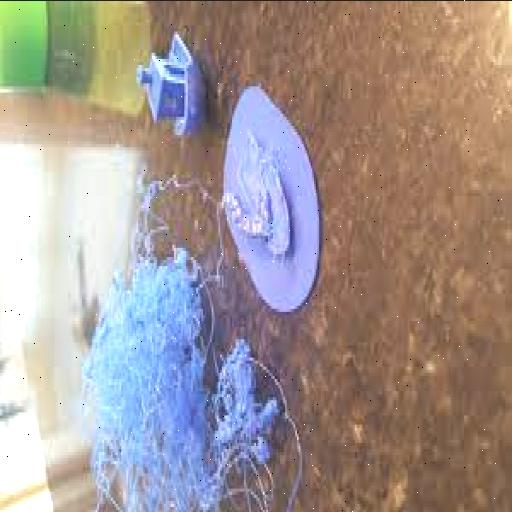spaghetti: (77, 250, 289, 508)
